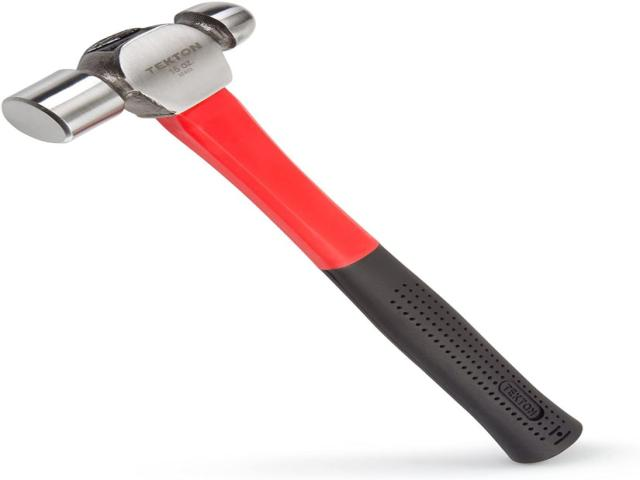Hammer: (5, 2, 582, 463)
